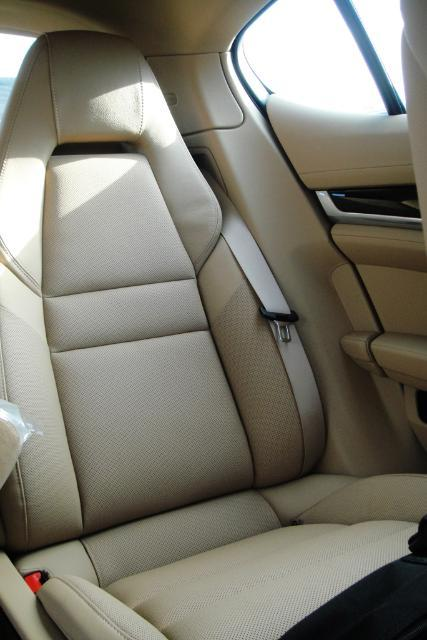Seatbelt: (202, 168, 326, 478)
